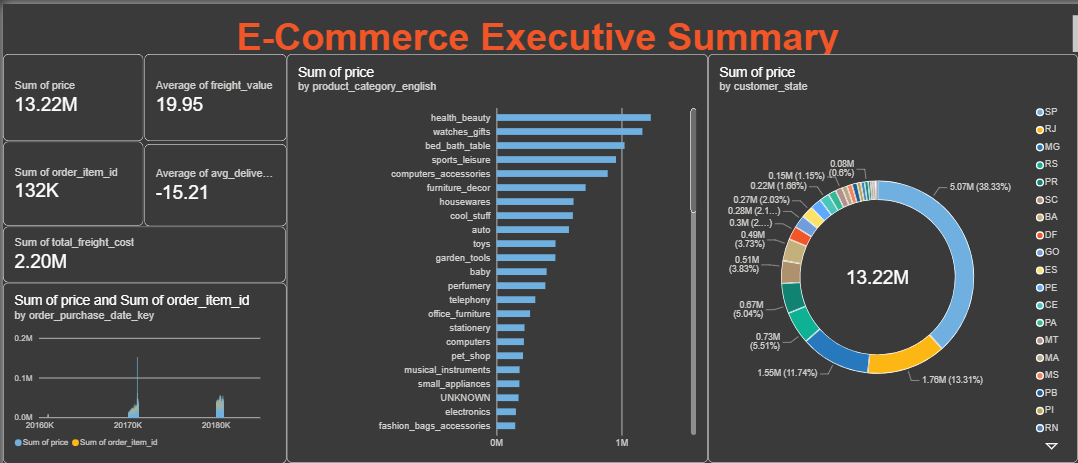

Layout of this report page (visuals, bound fields, positions):
{"tool":"powerbi","page":{"name":"Page 1","canvas":[1920,1080],"ordinal":0},"visuals":[{"type":"cardVisual","fields":{"Data":["Sum(fact_order_items.price)"]},"box":[0,74.6,208.5,129.6],"z":0},{"type":"clusteredBarChart","fields":{"Category":["dim_product.product_category_english"],"Y":["Sum(fact_order_items.price)"]},"box":[419.7,74.6,623.9,605.6],"z":1000},{"type":"cardVisual","fields":{"Data":["Sum(fact_order_items.order_item_id)"]},"box":[0,204.2,208.5,125.4],"z":2000},{"type":"textbox","box":[0,16.7,1592.6,59.3],"z":3000},{"type":"donutChart","fields":{"Category":["dim_customer.customer_state"],"Y":["Sum(fact_order_items.price)"]},"box":[1043.7,74.6,547.9,605.6],"z":4000},{"type":"columnChart","fields":{"Category":["fact_order_items.order_purchase_date_key"],"Y":["Sum(fact_order_items.price)","Sum(fact_order_items.order_item_id)"]},"box":[0,412.7,419.7,267.6],"z":5000},{"type":"cardVisual","fields":{"Data":["Avg(logistic_data_mart.avg_delivery_delay_days)"]},"box":[208.5,207,211.3,122.5],"z":6000},{"type":"cardVisual","fields":{"Data":["Avg(fact_order_items.freight_value)"]},"box":[208.5,74.6,211.3,129.6],"z":7000},{"type":"cardVisual","fields":{"Data":["Sum(logistic_data_mart.total_freight_cost)"]},"box":[0,329.6,419.7,83.1],"z":8000}]}

Visuals, with their boxes on the page's 1920x1080 design canvas (x1, y1, x2, y2). These are canvas units, not pixel positions in the 1078x463 screenshot, which may show the page scaled, cropped or inside an application window:
cardVisual - Sum(fact_order_items.price): crop(0, 75, 208, 204)
clusteredBarChart - dim_product.product_category_english x Sum(fact_order_items.price): crop(420, 75, 1044, 680)
cardVisual - Sum(fact_order_items.order_item_id): crop(0, 204, 208, 330)
textbox: crop(0, 17, 1593, 76)
donutChart - dim_customer.customer_state x Sum(fact_order_items.price): crop(1044, 75, 1592, 680)
columnChart - fact_order_items.order_purchase_date_key x Sum(fact_order_items.price): crop(0, 413, 420, 680)
cardVisual - Avg(logistic_data_mart.avg_delivery_delay_days): crop(208, 207, 420, 330)
cardVisual - Avg(fact_order_items.freight_value): crop(208, 75, 420, 204)
cardVisual - Sum(logistic_data_mart.total_freight_cost): crop(0, 330, 420, 413)
